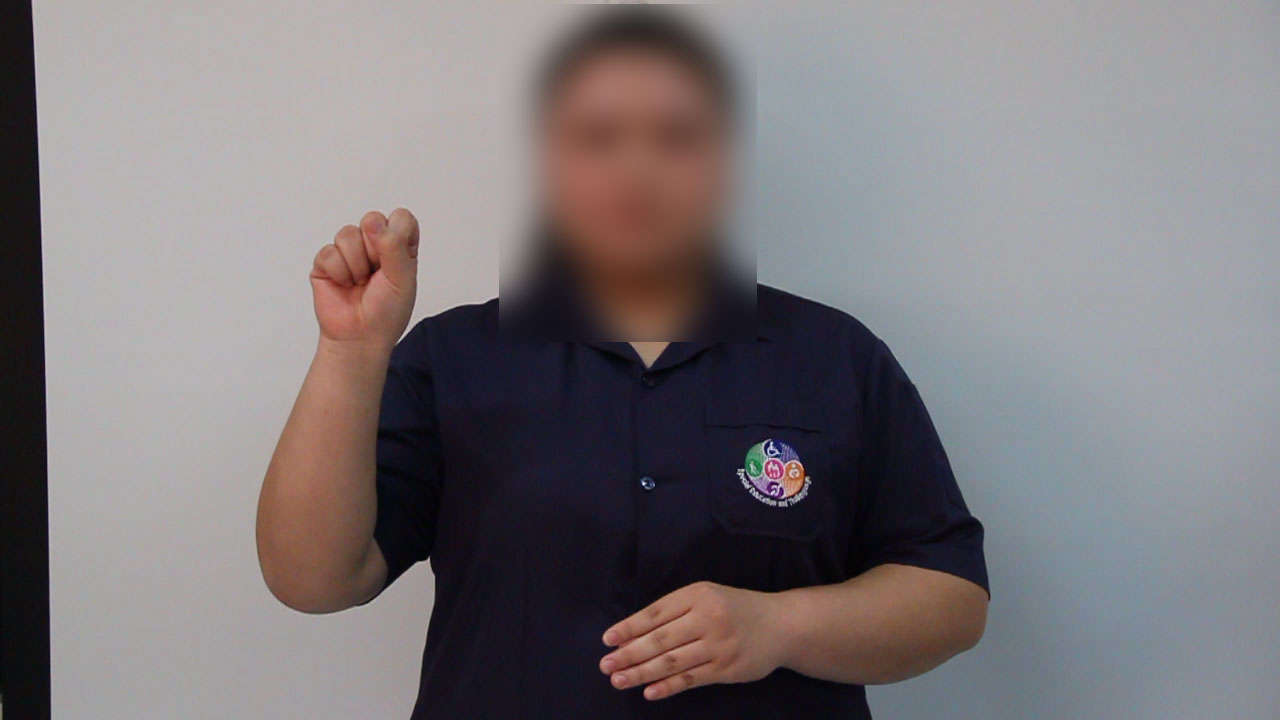sor: (284, 198, 437, 358)
